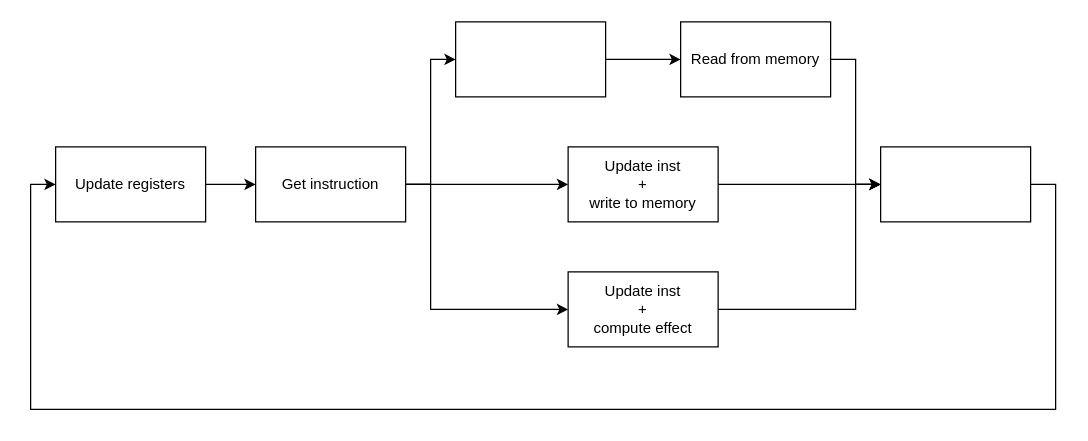
The diagram is 1088 pixels wide and 441 high, and some of its shapes have lost their labels. Each missing label, with the centre of its shape:
Update inst + Prepare read: the point at 530,59
Update tmp registers: the point at 955,184
